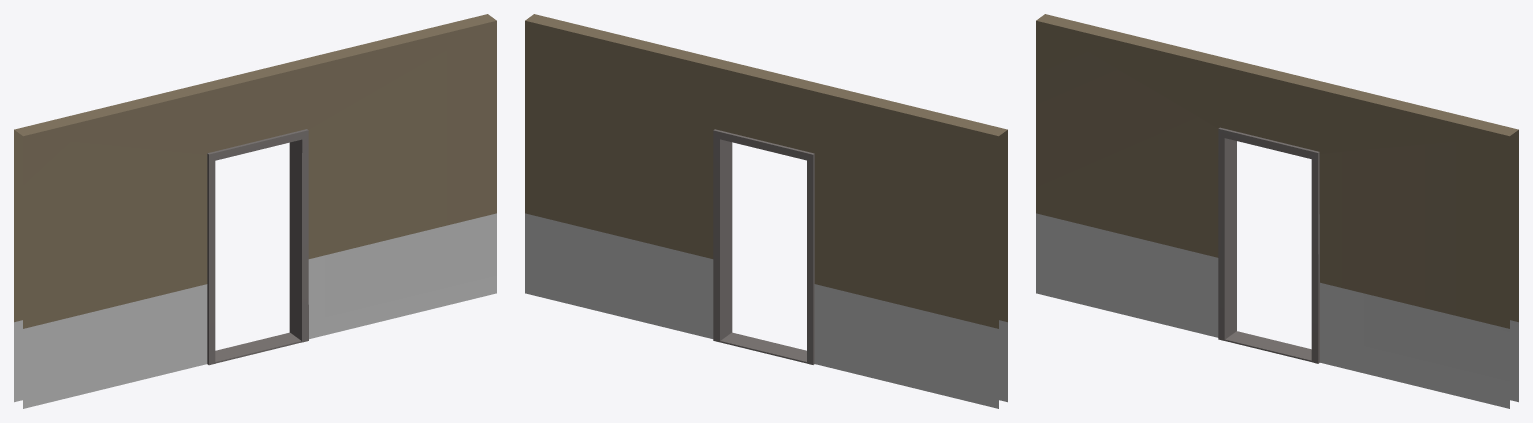
Rendered from SM_DoorFrame_A2_600.FBX.
The picture shows the model from 3 angles, left to right: view 1: azimuth 30°, elevation 25°; view 2: azimuth 150°, elevation 25°; view 3: azimuth 330°, elevation 25°; orthographic projection.
Visible parts, largest first — view 1: SM_DoorFrame_A2_600; view 2: SM_DoorFrame_A2_600; view 3: SM_DoorFrame_A2_600.
Boxes of the visible parts, x1=… form: SM_DoorFrame_A2_600: x1=14, y1=14, x2=496, y2=408; SM_DoorFrame_A2_600: x1=525, y1=14, x2=1007, y2=408; SM_DoorFrame_A2_600: x1=1036, y1=14, x2=1518, y2=408.
Size of the model in its own units: 600 by 27.36 by 330.
